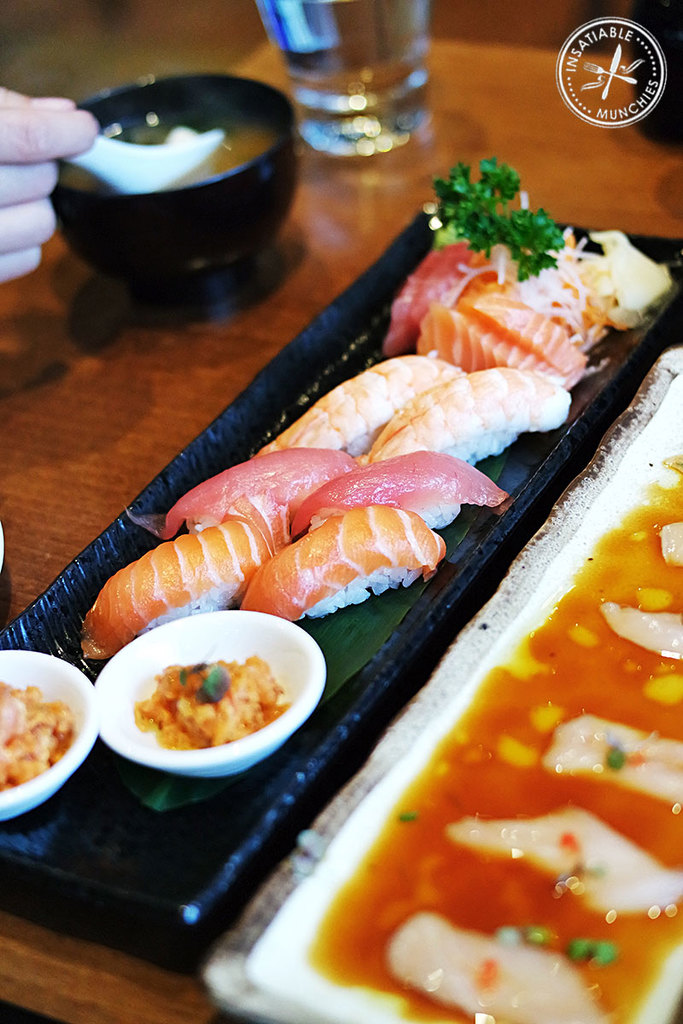sushi: (365, 159, 674, 390), (76, 508, 281, 665), (236, 503, 429, 635), (260, 349, 475, 458), (274, 445, 514, 532), (168, 439, 365, 531)
